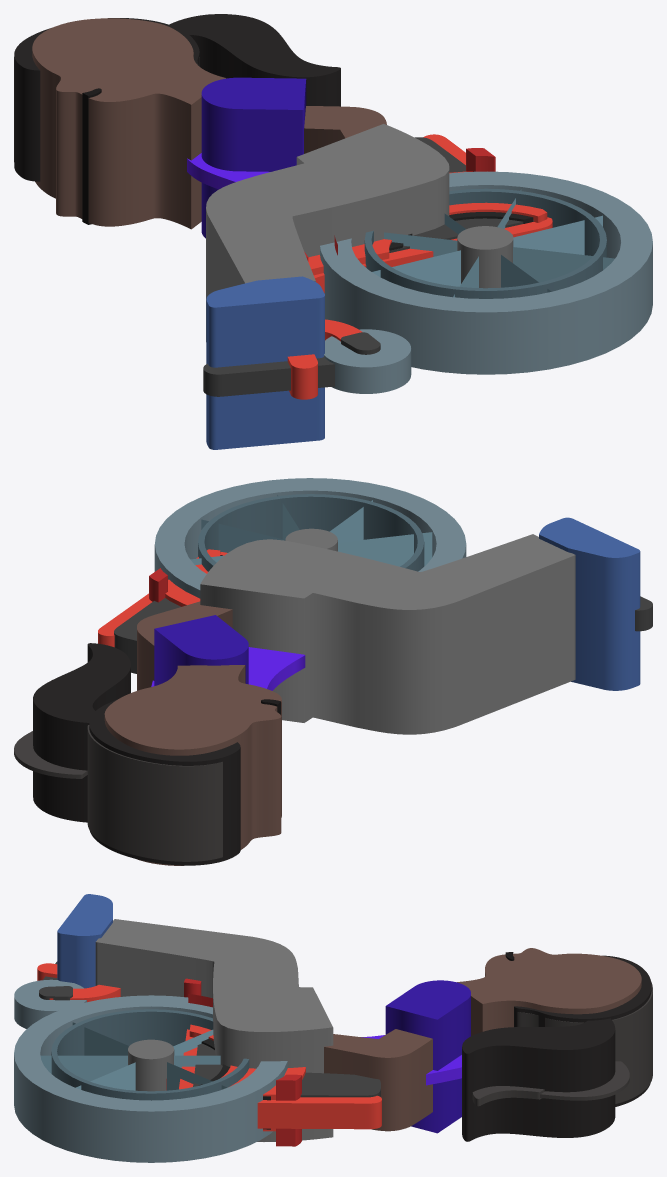
Rendered from emoji_u1f469_1f3ff_200d_1f9bd.glb.
3 views of the same model, one above another, from view 1: azimuth 30°, elevation 25°; view 2: azimuth 150°, elevation 25°; view 3: azimuth 270°, elevation 25° (orthographic). The views are drawn at different scales.
Visible parts, largest first — view 1: emoji_u1f469_1f3ff_200d_1f9bd; view 2: emoji_u1f469_1f3ff_200d_1f9bd; view 3: emoji_u1f469_1f3ff_200d_1f9bd.
Part boxes in pixels (left/top/right/bottom): emoji_u1f469_1f3ff_200d_1f9bd: left=14, top=14, right=652, bottom=449; emoji_u1f469_1f3ff_200d_1f9bd: left=14, top=478, right=652, bottom=865; emoji_u1f469_1f3ff_200d_1f9bd: left=14, top=894, right=652, bottom=1162.
Size of the model in its own units: 0.022 by 0.0064 by 0.0316.
